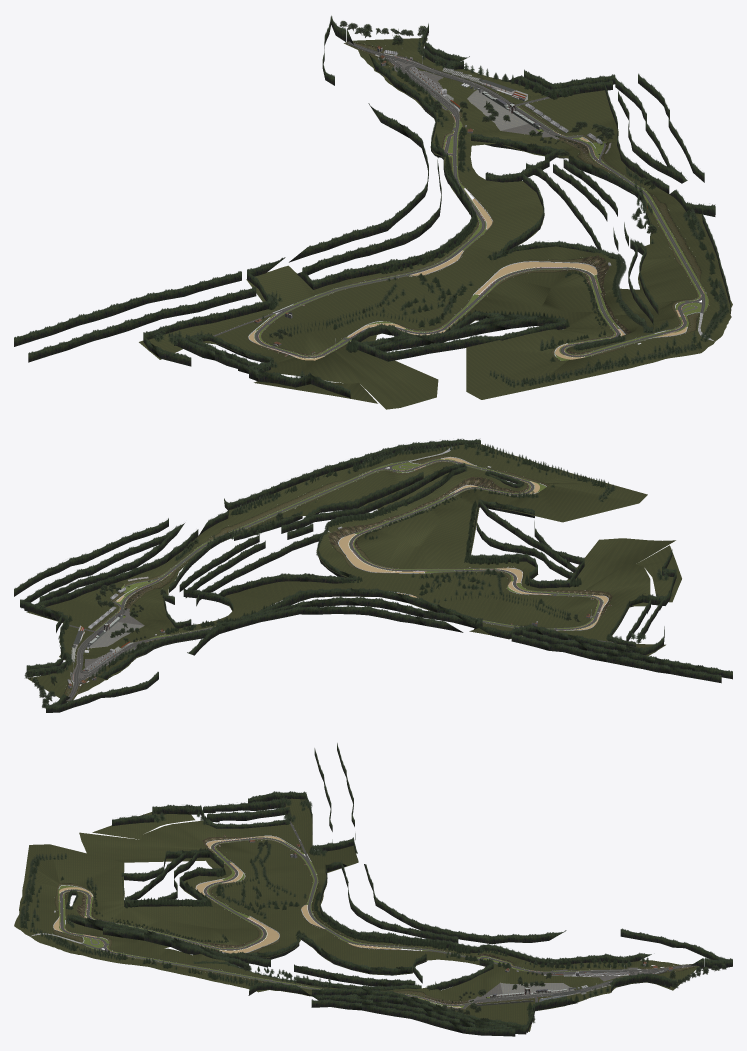
3 renders of one model, top to bottom at view 1: azimuth 30°, elevation 25°; view 2: azimuth 150°, elevation 25°; view 3: azimuth 270°, elevation 25°, orthographic. The views are drawn at different scales.
Visible parts, largest first — view 1: mesh; view 2: mesh; view 3: mesh.
Boxes of the visible parts, <box> form: mesh: <box>14,15,732,409</box>; mesh: <box>14,438,732,712</box>; mesh: <box>14,743,732,1036</box>.
Size of what is drawn, in the model's own units: 2712 by 169 by 2839.
Materials: 65 (63 with a texture image).
